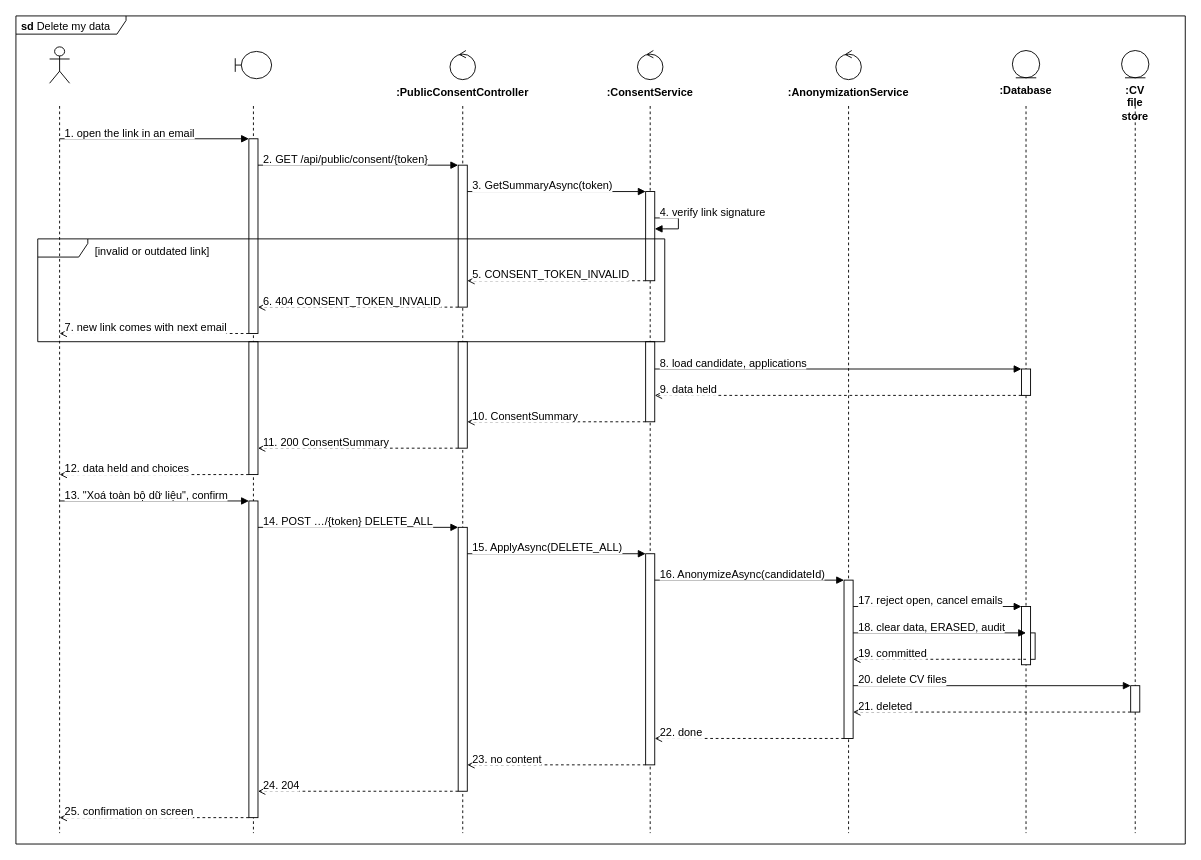
Image size: 1201x860. Some labels were removed from this diagram. The box of each missing label's shape, as (x1, y1, x2, y2) in pixels:
:Consent page: (234, 51, 272, 79)
break: (37, 238, 665, 342)
Candidate: (49, 46, 70, 83)
